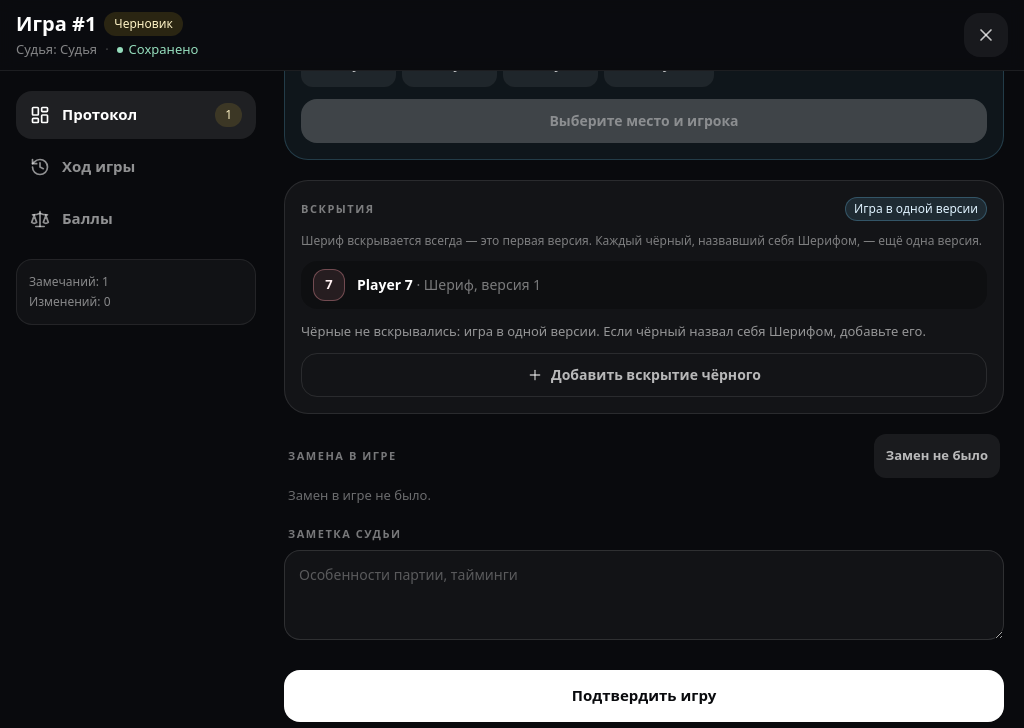
Scenario: tournament protocol in the common protocol window › a game missing the winner is not confirmed and says so on screen
This screenshot has width=1024, height=728.
(page scrolled)
Expected: the heading "Игра #1" is shown, [16, 10, 96, 38]
Step 1. Click the button "Подтвердить игру" → (644, 696), box [284, 670, 1004, 722]
(page scrolled)
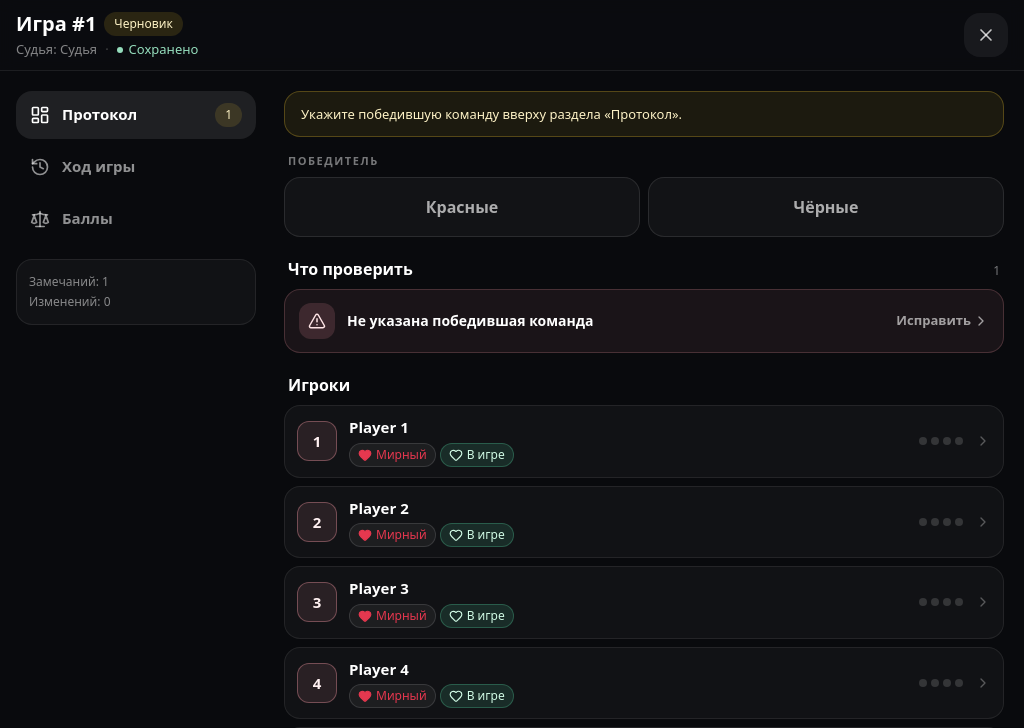
Expected: the text "Укажите победившую команду вверху раздела «Протокол»." is shown, [284, 90, 1004, 136]
